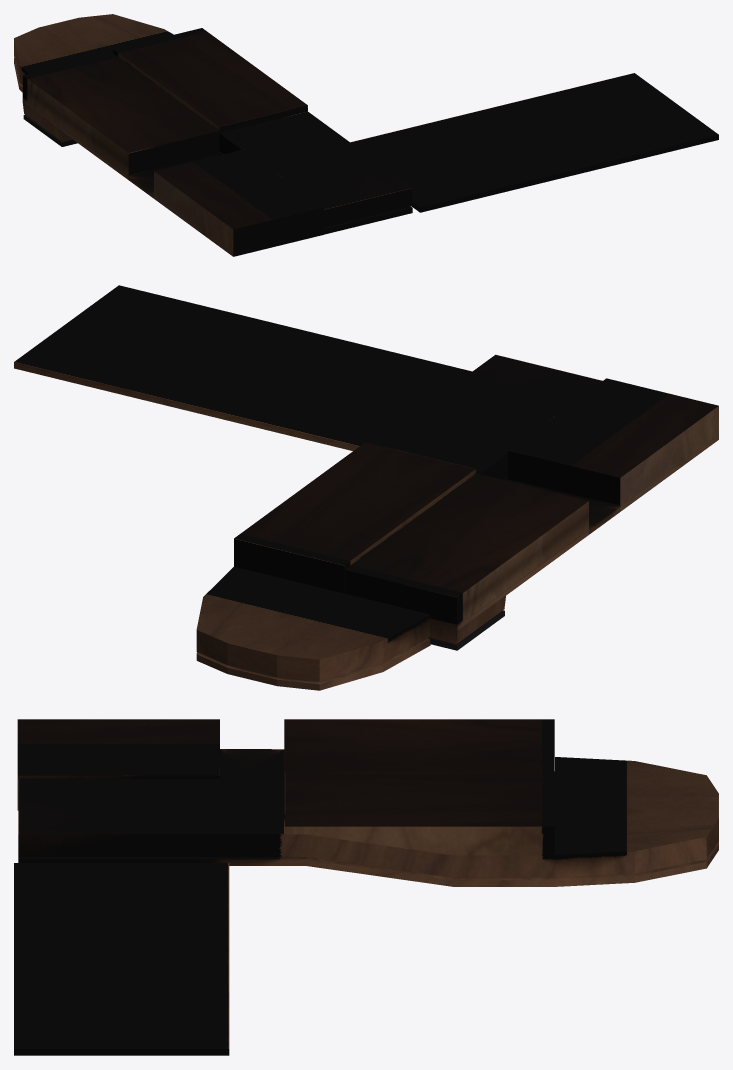
File: wooden overhang.obj
3 renders of one model, top to bottom at view 1: azimuth 30°, elevation 25°; view 2: azimuth 150°, elevation 25°; view 3: azimuth 270°, elevation 25°, orthographic. The views are drawn at different scales.
Parts seen in each view (by area): view 1: Plane.003; view 2: Plane.003; view 3: Plane.003.
Part boxes in pixels (bbox=[...]): Plane.003: bbox=[14, 14, 718, 256]; Plane.003: bbox=[14, 285, 718, 690]; Plane.003: bbox=[14, 719, 718, 1055].
Size of the model in its own units: 5.13 by 0.4808 by 5.08.
Materials: 2 (2 with a texture image).
